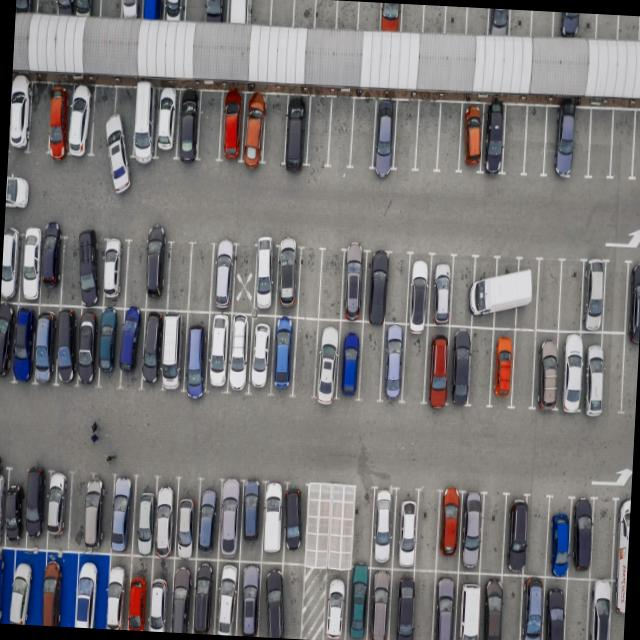car: (0, 548, 40, 625), (555, 330, 590, 412), (566, 334, 600, 416), (70, 550, 106, 627), (130, 84, 162, 166), (532, 332, 564, 412), (182, 312, 213, 394), (213, 477, 244, 559), (208, 562, 242, 636), (247, 315, 278, 396), (160, 312, 191, 393), (422, 325, 453, 405), (582, 332, 613, 412), (65, 84, 96, 163), (547, 105, 580, 179), (203, 312, 233, 393), (268, 315, 298, 395), (488, 326, 518, 406), (335, 319, 365, 399), (222, 314, 252, 394), (103, 553, 134, 630), (368, 486, 397, 568), (118, 308, 148, 387), (376, 323, 406, 402), (44, 84, 74, 163), (36, 552, 68, 626), (143, 558, 175, 632), (151, 88, 182, 164), (433, 490, 462, 571), (445, 326, 474, 407), (392, 488, 421, 569), (30, 304, 59, 384), (109, 474, 138, 554), (152, 479, 182, 556), (490, 256, 522, 328), (314, 316, 342, 398), (123, 554, 153, 630), (174, 90, 204, 166), (190, 556, 220, 632), (167, 556, 197, 632), (238, 479, 266, 560), (8, 303, 36, 384), (458, 492, 486, 572), (100, 238, 132, 308), (208, 242, 239, 314), (216, 91, 246, 165), (195, 479, 223, 558), (454, 571, 486, 640), (257, 560, 286, 636), (272, 243, 302, 316), (470, 255, 500, 328), (260, 482, 288, 560), (55, 306, 82, 386), (501, 496, 528, 576), (237, 559, 265, 636), (458, 102, 488, 173), (576, 262, 606, 333), (547, 501, 575, 577), (140, 310, 167, 388), (76, 307, 102, 388), (431, 570, 461, 640), (45, 471, 73, 546), (323, 570, 353, 640), (240, 94, 269, 166), (362, 252, 391, 324), (98, 304, 124, 384), (279, 488, 306, 565), (82, 475, 109, 552), (254, 240, 282, 314), (15, 230, 43, 304), (363, 566, 391, 640), (172, 484, 200, 558), (37, 228, 64, 304), (130, 477, 156, 555), (388, 568, 416, 640), (512, 258, 540, 330), (283, 95, 311, 166), (22, 469, 48, 545), (340, 252, 369, 320), (406, 255, 434, 325), (372, 100, 400, 170), (81, 234, 108, 306), (516, 576, 546, 640), (144, 240, 172, 308), (426, 258, 454, 326), (8, 78, 33, 154), (91, 478, 116, 554), (482, 104, 508, 176), (4, 467, 28, 545), (570, 500, 594, 577), (343, 569, 369, 640), (541, 574, 568, 640), (588, 576, 615, 640), (477, 576, 504, 640), (1, 228, 23, 302), (612, 496, 631, 580), (625, 260, 640, 335), (0, 302, 14, 381), (556, 12, 596, 39), (609, 577, 626, 640), (378, 2, 402, 32), (488, 9, 514, 36), (225, 0, 251, 25), (140, 0, 167, 22), (0, 467, 7, 550), (201, 0, 227, 22), (161, 0, 187, 21), (0, 550, 7, 624), (118, 0, 143, 20), (71, 0, 97, 15), (55, 0, 76, 16), (15, 0, 37, 14)
free: (288, 318, 320, 398), (88, 86, 119, 166), (598, 332, 628, 412), (110, 86, 140, 166), (275, 562, 306, 638), (466, 327, 496, 405), (412, 491, 440, 574), (479, 496, 508, 576), (508, 330, 537, 409), (262, 90, 292, 166), (357, 321, 386, 399), (27, 80, 56, 158), (401, 327, 431, 402), (524, 498, 552, 578), (348, 489, 375, 571), (196, 91, 226, 163), (406, 568, 436, 640), (499, 102, 528, 176), (349, 95, 378, 169), (436, 101, 466, 172), (380, 253, 409, 326), (293, 250, 323, 320), (556, 262, 586, 332), (610, 110, 640, 180), (590, 500, 616, 580), (601, 262, 629, 336), (228, 243, 256, 317), (188, 243, 217, 314), (536, 260, 565, 331), (448, 257, 477, 328), (54, 552, 81, 628), (316, 251, 345, 321), (391, 100, 420, 170), (522, 105, 550, 177), (416, 100, 444, 172), (588, 107, 616, 179), (328, 97, 356, 168), (306, 96, 334, 166), (60, 232, 86, 306), (560, 576, 590, 640), (167, 240, 194, 310), (125, 240, 152, 308), (68, 476, 92, 550), (498, 575, 525, 640), (302, 488, 323, 570), (570, 107, 593, 181), (620, 335, 640, 413), (334, 1, 359, 34), (422, 5, 448, 35), (357, 1, 382, 32), (313, 0, 338, 30), (291, 0, 316, 29), (530, 10, 554, 40), (400, 4, 424, 34), (466, 8, 491, 36), (446, 7, 470, 36), (508, 10, 532, 38), (269, 0, 293, 27), (596, 14, 620, 40), (616, 15, 640, 41), (248, 0, 272, 25), (632, 111, 640, 181), (184, 0, 208, 23), (100, 0, 124, 20), (36, 0, 60, 16)
